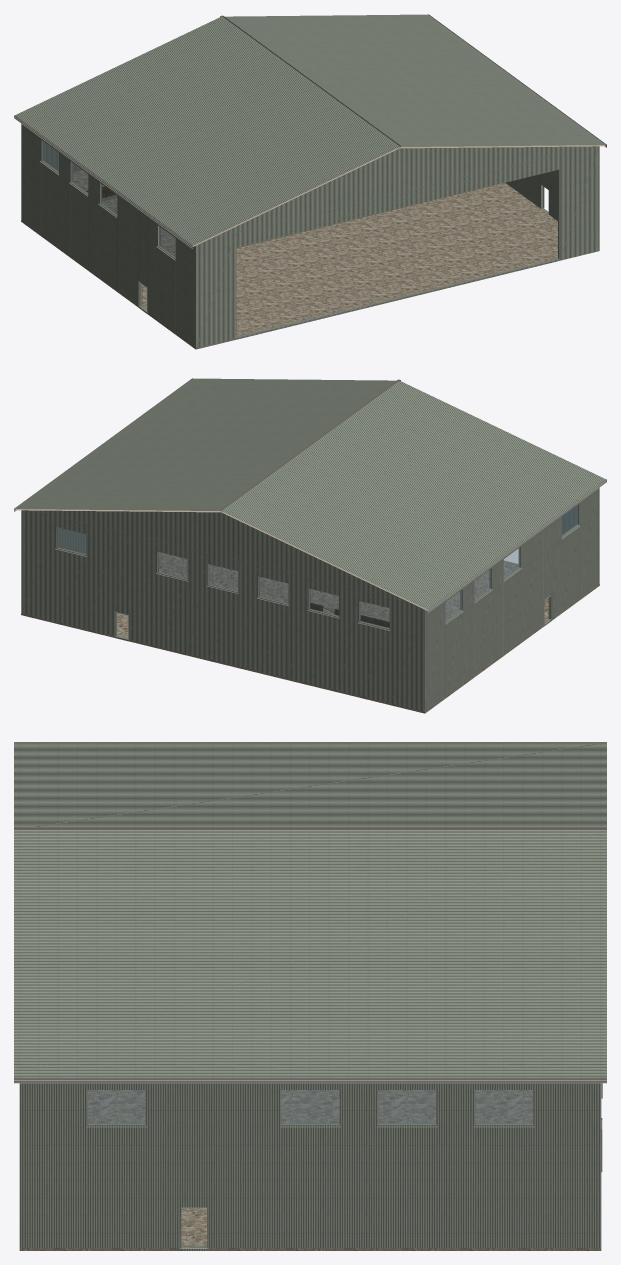
The model's file is mil-hangar.glass-v1.lod1.glb.
3 views of the same model, one above another, from view 1: azimuth 30°, elevation 25°; view 2: azimuth 150°, elevation 25°; view 3: azimuth 270°, elevation 25° (orthographic). The views are drawn at different scales.
Visible parts, largest first — view 1: mil-hangar; view 2: mil-hangar; view 3: mil-hangar.
Boxes of the visible parts, x1,y1,x2,y2 form: mil-hangar: [14, 14, 606, 349]; mil-hangar: [14, 378, 606, 713]; mil-hangar: [14, 742, 606, 1250].
Bounding box in the file's own units: 41.08 × 14.71 × 30.6.
Materials: 5 (3 with a texture image).
